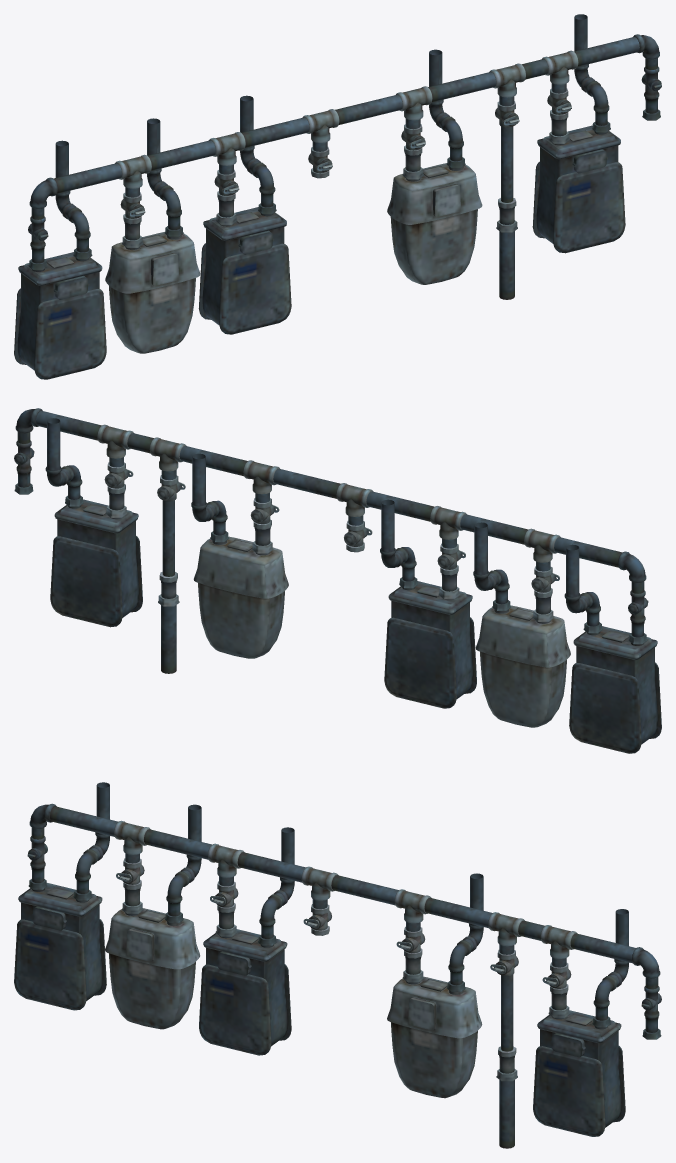
File: sm20_007_gasmeter01a.fbx
3 renders of one model, top to bottom at view 1: azimuth 30°, elevation 25°; view 2: azimuth 150°, elevation 25°; view 3: azimuth 330°, elevation 25°, orthographic.
Visible parts, largest first — view 1: LOD_1_Group_0_Sub_1__sm20_007_gasMeter01A_A_Mat; view 2: LOD_1_Group_0_Sub_1__sm20_007_gasMeter01A_A_Mat; view 3: LOD_1_Group_0_Sub_1__sm20_007_gasMeter01A_A_Mat.
Boxes of the visible parts, x1,y1,x2,y2 form: LOD_1_Group_0_Sub_1__sm20_007_gasMeter01A_A_Mat: (14, 14, 661, 379); LOD_1_Group_0_Sub_1__sm20_007_gasMeter01A_A_Mat: (14, 408, 661, 753); LOD_1_Group_0_Sub_1__sm20_007_gasMeter01A_A_Mat: (14, 782, 661, 1148).
Bounding box in the file's own units: 2.01 × 0.7303 × 0.2073.
